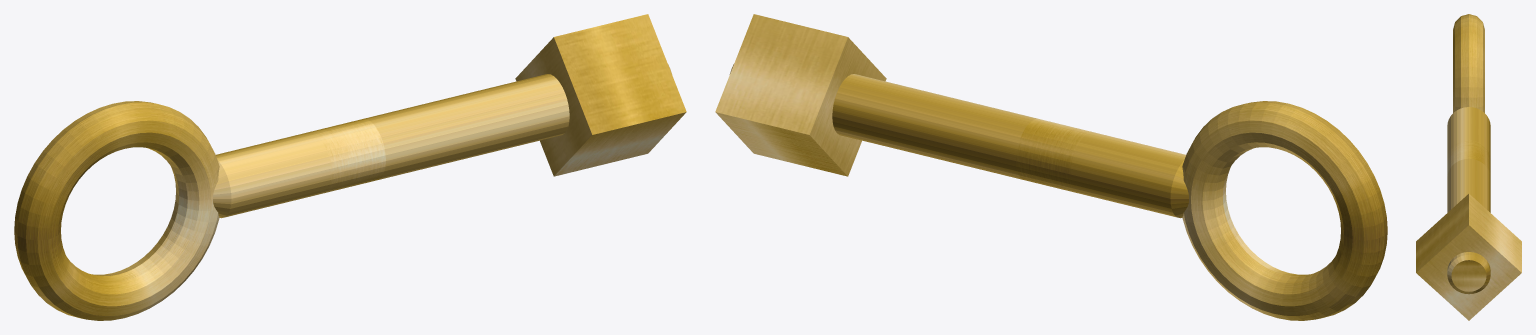
The model's file is brasskey.gltf.
3 renders of one model, left to right at view 1: azimuth 30°, elevation 25°; view 2: azimuth 150°, elevation 25°; view 3: azimuth 270°, elevation 25°, orthographic. The views are drawn at different scales.
Parts seen in each view (by area): view 1: Torus, Cylinder, Cube; view 2: Torus, Cylinder, Cube; view 3: Cube, Cylinder, Torus.
Boxes of the visible parts, x1,y1,x2,y2 form: Torus: (14,101,219,320); Cylinder: (213,64,672,218); Cube: (515,14,686,176); Torus: (1182,101,1387,320); Cylinder: (729,64,1188,218); Cube: (715,14,886,176); Cube: (1416,194,1521,320); Cylinder: (1447,107,1490,294); Torus: (1453,14,1484,112).
Size of the model in its own units: 11.06 by 3.47 by 2.29.
Materials: 1 (1 with a texture image).
